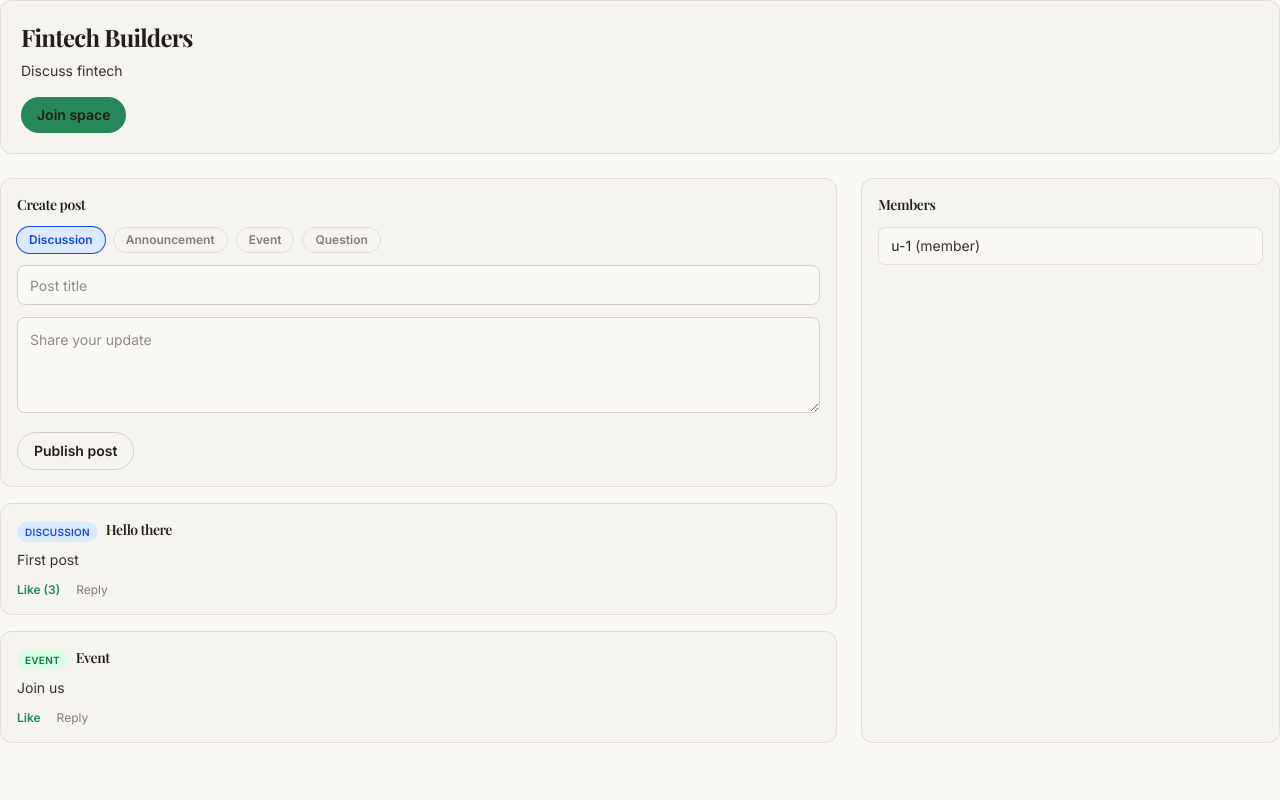
it: SpacePage › shows reply toggle when Reply button clicked
The width and height of the screenshot is (1280, 800).
Click the button "Reply" below "First post". click: click(92, 590)
box: [76,582,108,598]
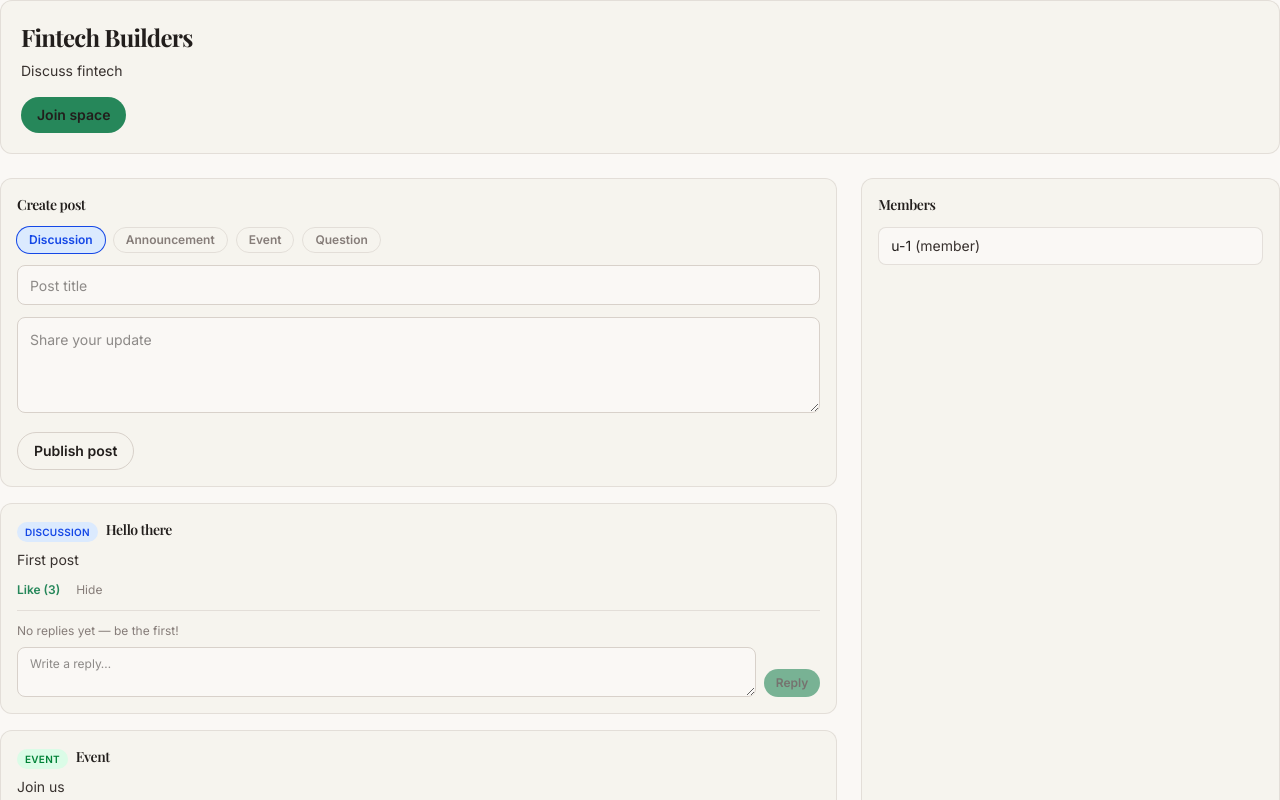
Check: the text box with placeholder "Write a reply…" is shown, box [17,647,756,697]
